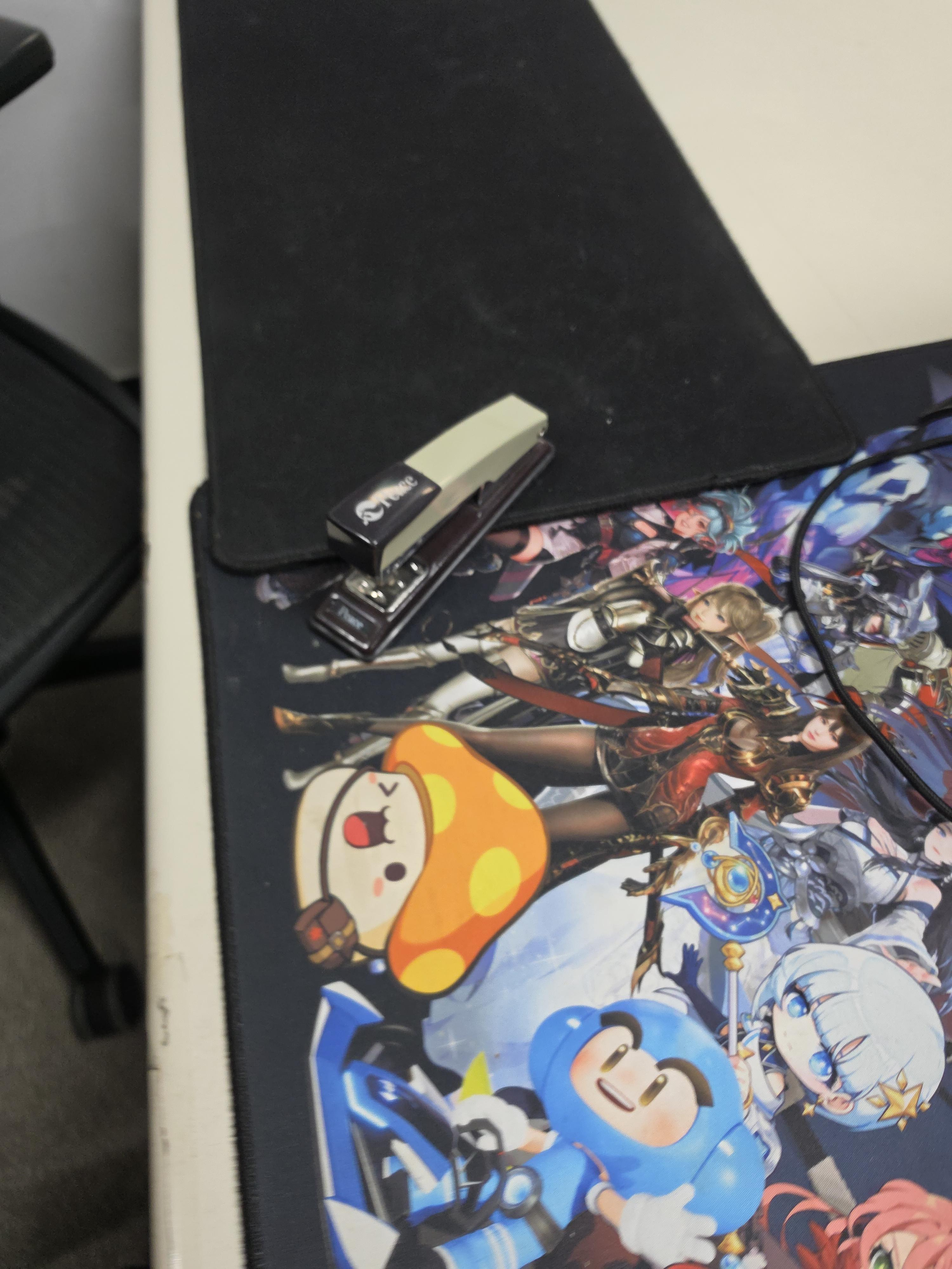stapler: (309, 393, 555, 660)
